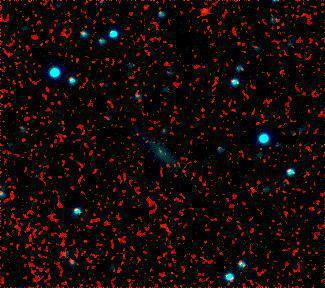star: (191, 0, 221, 29)
